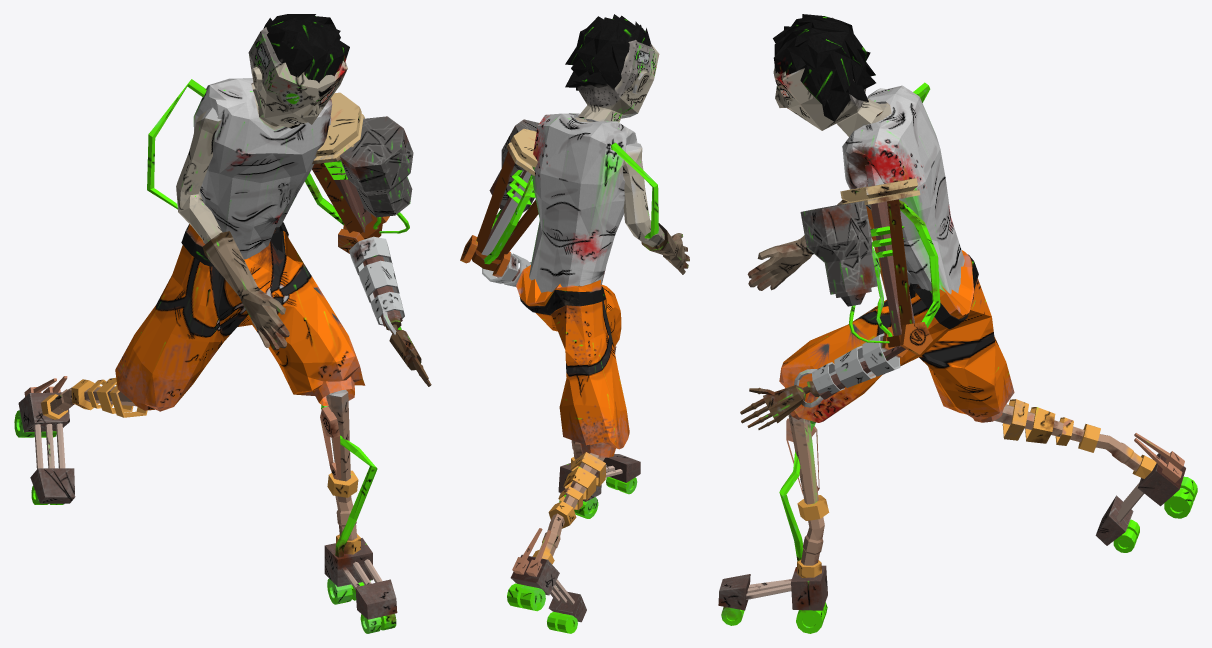
Rendered from CyborgFINALAnimation_000005.obj.
3 renders of one model, left to right at view 1: azimuth 30°, elevation 25°; view 2: azimuth 150°, elevation 25°; view 3: azimuth 270°, elevation 25°, orthographic. The views are drawn at different scales.
Parts seen in each view (by area): view 1: CyborgMesh_Cube.002; view 2: CyborgMesh_Cube.002; view 3: CyborgMesh_Cube.002.
Part boxes in pixels (box(x1,y1,x2,y2)): CyborgMesh_Cube.002: box(14, 14, 431, 633); CyborgMesh_Cube.002: box(460, 14, 689, 633); CyborgMesh_Cube.002: box(718, 14, 1197, 633).
Bounding box in the file's own units: 3.66 × 8.52 × 6.32.
